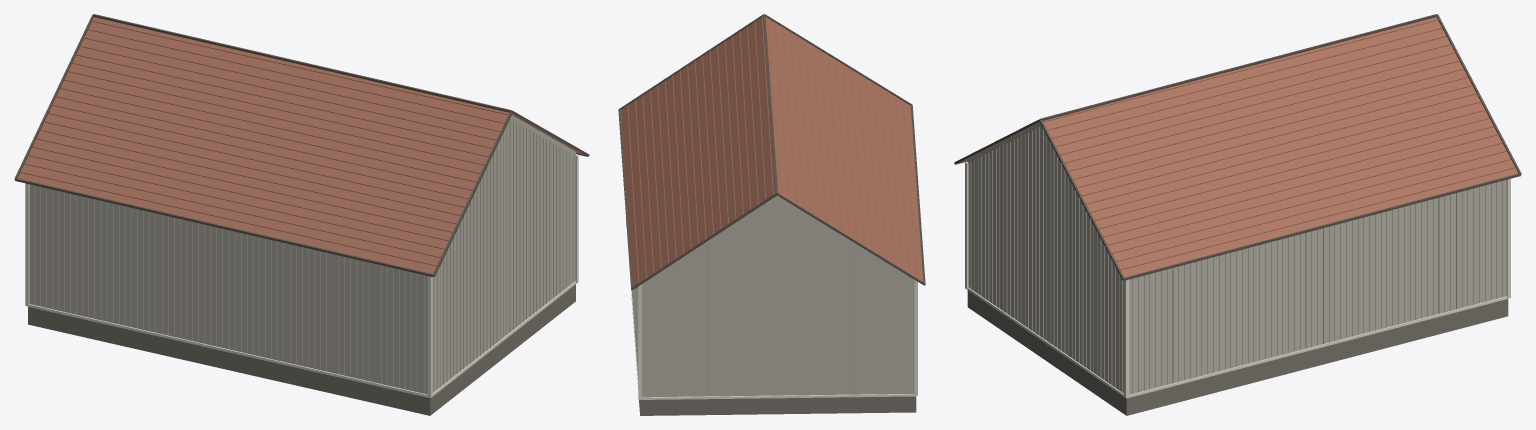
3 renders of one model, left to right at view 1: azimuth 30°, elevation 25°; view 2: azimuth 150°, elevation 25°; view 3: azimuth 270°, elevation 25°, orthographic. The views are drawn at different scales.
Parts seen in each view (by area): view 1: Tortuna facility | service-yard-west-barn | Roof tile, Tortuna facility | service-yard-west-barn | Timber, Tortuna facility | service-yard-west-barn | Batten, Tortuna facility | service-yard-west-barn | Tile course, Tortuna facility | service-yard-west-barn | Foundation, Tortuna facility | service-yard-west-barn | Roof flashing, Tortuna facility | service-yard-west-barn | White trim; view 2: Tortuna facility | service-yard-west-barn | Roof tile, Tortuna facility | service-yard-west-barn | Timber, Tortuna facility | service-yard-west-barn | Batten, Tortuna facility | service-yard-west-barn | Tile course, Tortuna facility | service-yard-west-barn | Foundation, Tortuna facility | service-yard-west-barn | Roof flashing, Tortuna facility | service-yard-west-barn | White trim; view 3: Tortuna facility | service-yard-west-barn | Roof tile, Tortuna facility | service-yard-west-barn | Timber, Tortuna facility | service-yard-west-barn | Batten, Tortuna facility | service-yard-west-barn | Tile course, Tortuna facility | service-yard-west-barn | Foundation, Tortuna facility | service-yard-west-barn | Roof flashing, Tortuna facility | service-yard-west-barn | White trim.
Boxes of the visible parts, x1=… form: Tortuna facility | service-yard-west-barn | Roof tile: x1=18, y1=17, x2=583, y2=273; Tortuna facility | service-yard-west-barn | Timber: x1=29, y1=115, x2=575, y2=394; Tortuna facility | service-yard-west-barn | Batten: x1=33, y1=118, x2=573, y2=393; Tortuna facility | service-yard-west-barn | Tile course: x1=20, y1=20, x2=583, y2=273; Tortuna facility | service-yard-west-barn | Foundation: x1=28, y1=284, x2=575, y2=415; Tortuna facility | service-yard-west-barn | Roof flashing: x1=14, y1=14, x2=589, y2=276; Tortuna facility | service-yard-west-barn | White trim: x1=25, y1=154, x2=578, y2=397; Tortuna facility | service-yard-west-barn | Roof tile: x1=621, y1=17, x2=923, y2=286; Tortuna facility | service-yard-west-barn | Timber: x1=642, y1=195, x2=914, y2=397; Tortuna facility | service-yard-west-barn | Batten: x1=631, y1=196, x2=910, y2=397; Tortuna facility | service-yard-west-barn | Tile course: x1=620, y1=16, x2=917, y2=282; Tortuna facility | service-yard-west-barn | Foundation: x1=639, y1=396, x2=916, y2=415; Tortuna facility | service-yard-west-barn | Roof flashing: x1=618, y1=14, x2=925, y2=289; Tortuna facility | service-yard-west-barn | White trim: x1=626, y1=219, x2=917, y2=399; Tortuna facility | service-yard-west-barn | Roof tile: x1=961, y1=17, x2=1518, y2=277; Tortuna facility | service-yard-west-barn | Timber: x1=967, y1=123, x2=1506, y2=394; Tortuna facility | service-yard-west-barn | Batten: x1=970, y1=127, x2=1503, y2=393; Tortuna facility | service-yard-west-barn | Tile course: x1=960, y1=19, x2=1515, y2=269; Tortuna facility | service-yard-west-barn | Foundation: x1=967, y1=290, x2=1508, y2=415; Tortuna facility | service-yard-west-barn | Roof flashing: x1=954, y1=14, x2=1521, y2=280; Tortuna facility | service-yard-west-barn | White trim: x1=965, y1=161, x2=1510, y2=398.
Size of the model in its own units: 17.61 by 9.2 by 19.23.
